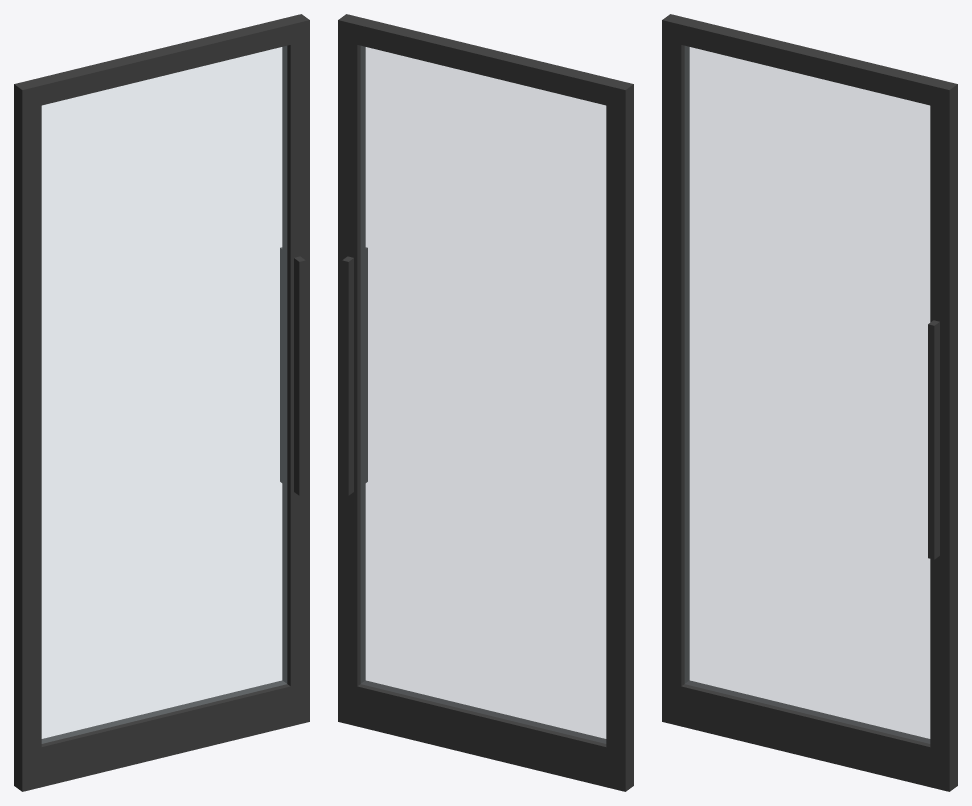
Rendered from mlo_door_sliding_glass_black.glb.
The picture shows the model from 3 angles, left to right: view 1: azimuth 30°, elevation 25°; view 2: azimuth 150°, elevation 25°; view 3: azimuth 330°, elevation 25°; orthographic projection.
Visible parts, largest first — view 1: Door_Sliding_Glass_Black; view 2: Door_Sliding_Glass_Black; view 3: Door_Sliding_Glass_Black.
Boxes of the visible parts, left/top/right/bottom form: Door_Sliding_Glass_Black: left=14, top=14, right=309, bottom=791; Door_Sliding_Glass_Black: left=338, top=14, right=633, bottom=791; Door_Sliding_Glass_Black: left=662, top=14, right=957, bottom=791.
Size of the model in its own units: 0.9 by 2.1 by 0.105.
